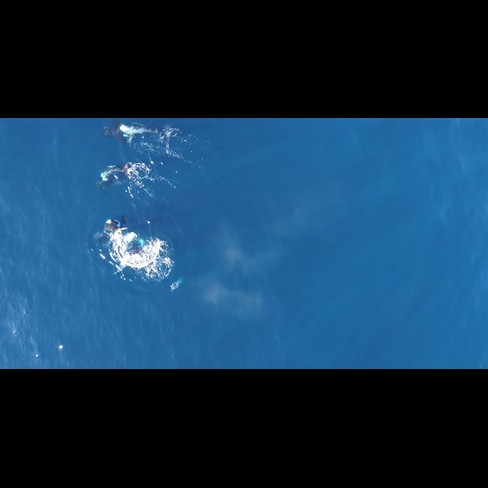orca: (97, 218, 182, 287), (94, 154, 166, 194), (106, 121, 179, 147)
